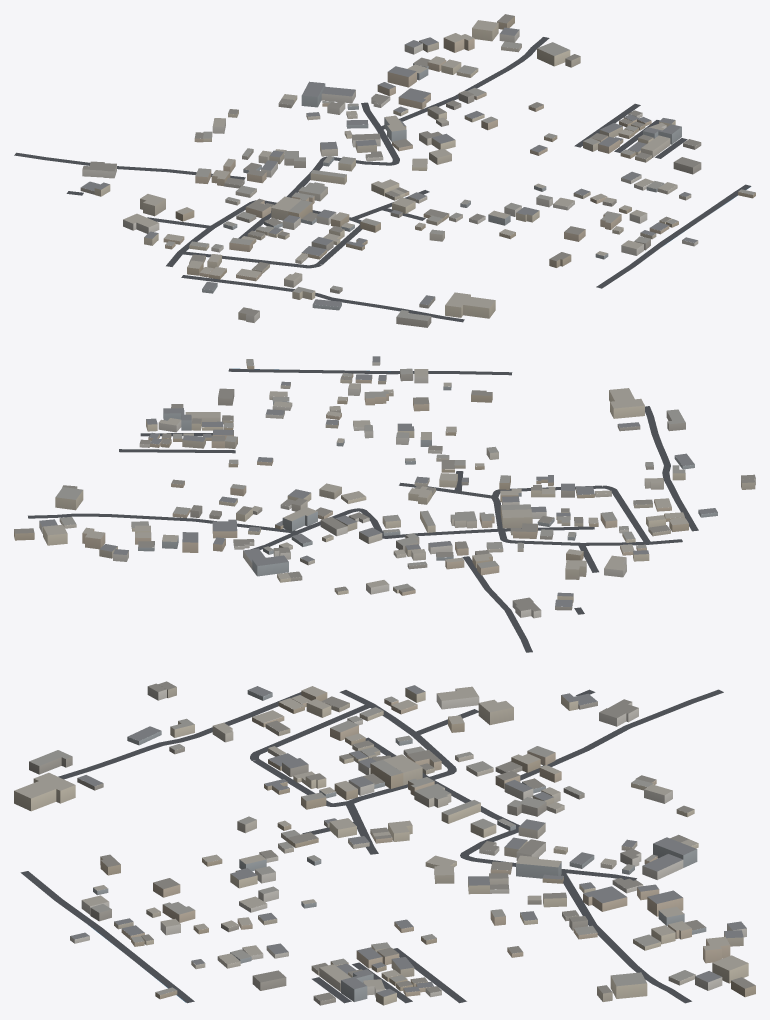
The picture shows the model from 3 angles, top to bottom: view 1: azimuth 30°, elevation 25°; view 2: azimuth 150°, elevation 25°; view 3: azimuth 270°, elevation 25°; orthographic projection. The views are drawn at different scales.
Parts seen in each view (by area): view 1: buildings_walls, buildings_roofs, roads; view 2: buildings_roofs, buildings_walls, roads; view 3: buildings_walls, buildings_roofs, roads.
Boxes of the visible parts, x1=… form: buildings_walls: x1=80, y1=16, x2=755, y2=327; buildings_roofs: x1=81, y1=14, x2=755, y2=320; roads: x1=14, y1=37, x2=751, y2=322; buildings_roofs: x1=14, y1=356, x2=755, y2=611; buildings_walls: x1=14, y1=360, x2=755, y2=618; roads: x1=28, y1=368, x2=698, y2=652; buildings_walls: x1=14, y1=686, x2=755, y2=1005; buildings_roofs: x1=14, y1=681, x2=755, y2=1001; roads: x1=20, y1=689, x2=723, y2=1003.
Bounding box in the file's own units: 507 × 9.59 × 503.
